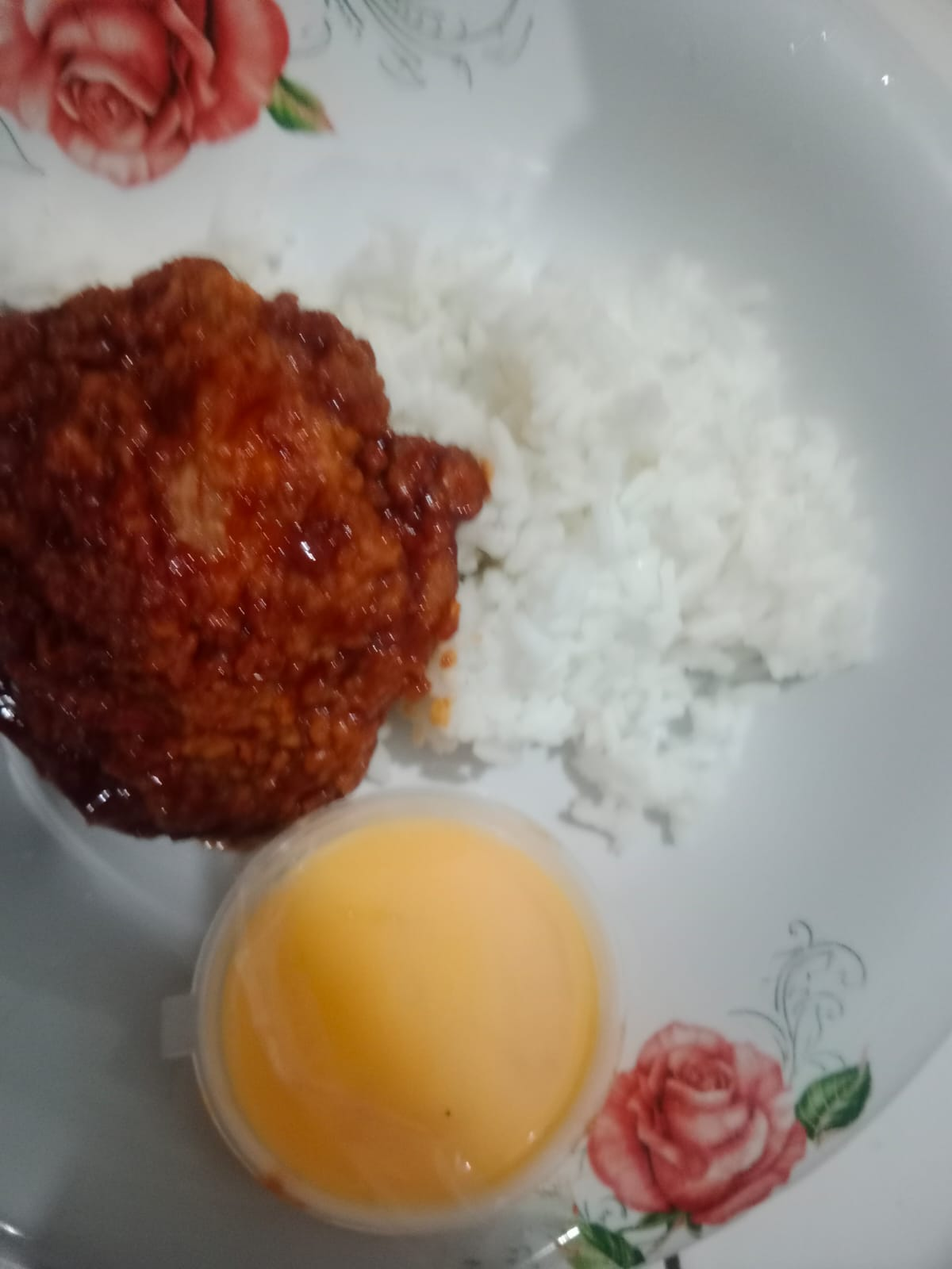daging: (30, 293, 359, 765)
makanan_berpati: (455, 225, 862, 728)
